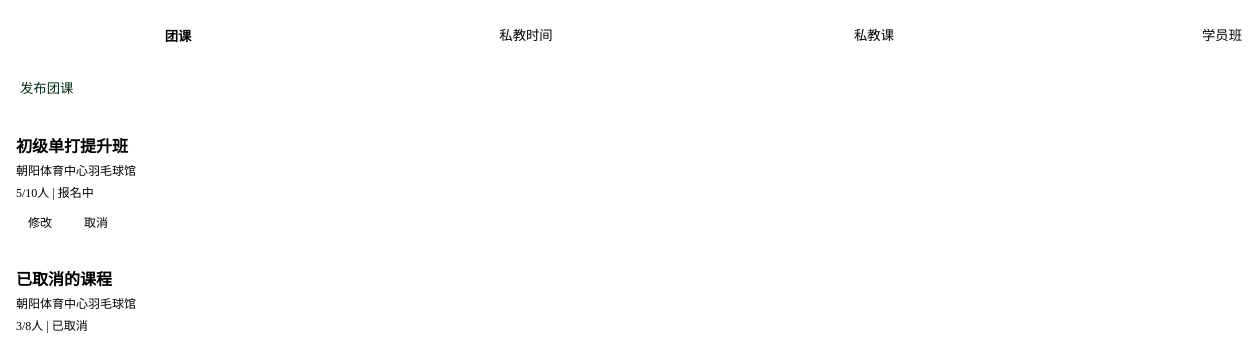
MyCourseManagementPage › should render slot cards with booking status
This screenshot has width=1259, height=350.
Click the button "私教时间" at [526, 36], box x1=352 y1=17 x2=700 y2=54
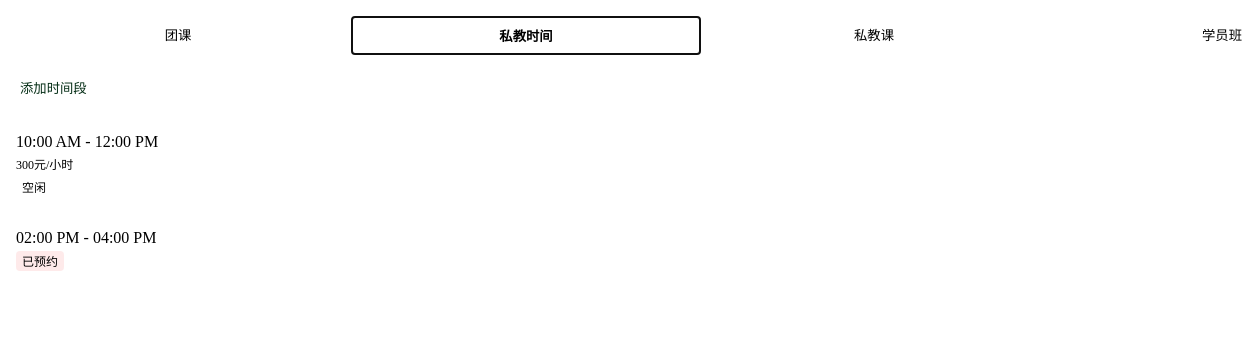
Now the text "空闲" is shown, box x1=22 y1=181 x2=46 y2=195
Now the text "已预约" is shown, box x1=16 y1=251 x2=64 y2=271
